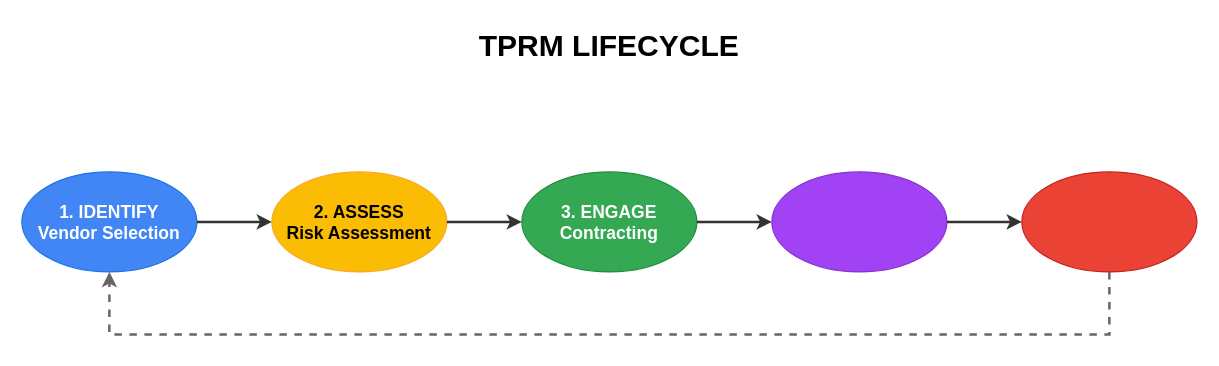
Image size: 1219x366. Some labels were removed from this diagram. Each missing label, with the centre of its shape:
"4. MONITOR Ongoing Oversight" belongs at (x=859, y=221).
"5. EXIT Offboarding" belongs at (x=1109, y=221).
